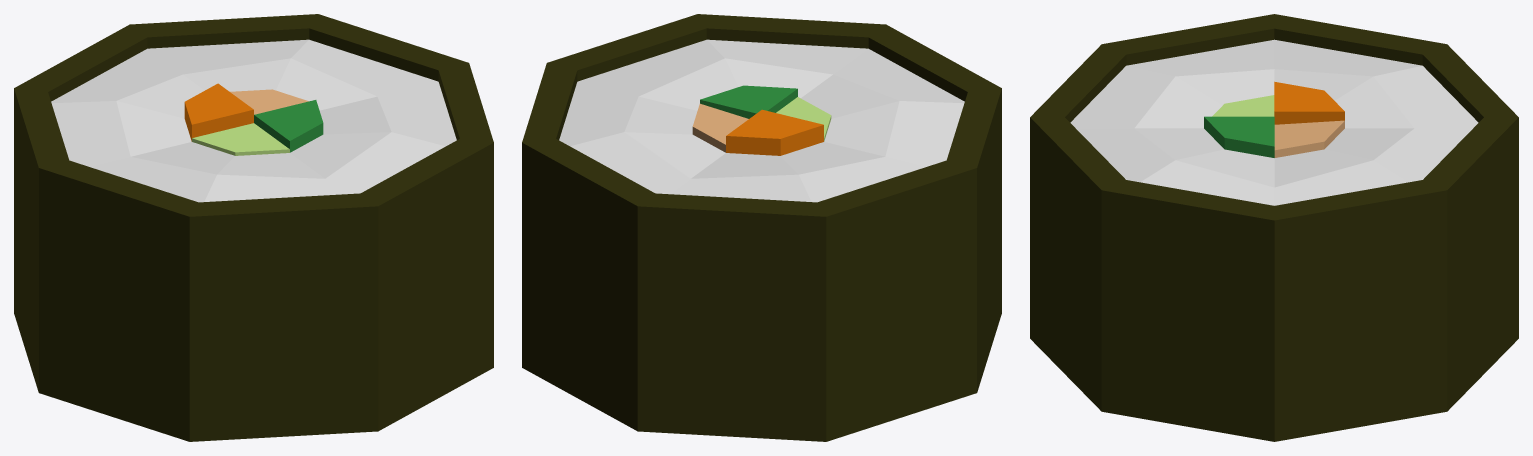
Rendered from m_coloniusLory_Maki_Avocat_001.fbx.
3 renders of one model, left to right at view 1: azimuth 30°, elevation 25°; view 2: azimuth 150°, elevation 25°; view 3: azimuth 270°, elevation 25°, orthographic.
Visible parts, largest first — view 1: m_coloniusLory_Maki_Avocat_001; view 2: m_coloniusLory_Maki_Avocat_001; view 3: m_coloniusLory_Maki_Avocat_001.
Part boxes in pixels (box(x1,y1,x2,y2)): m_coloniusLory_Maki_Avocat_001: box(14, 14, 493, 441); m_coloniusLory_Maki_Avocat_001: box(522, 14, 1001, 441); m_coloniusLory_Maki_Avocat_001: box(1030, 14, 1518, 441).
Size of the model in its own units: 3.94 by 2.07 by 3.94.
